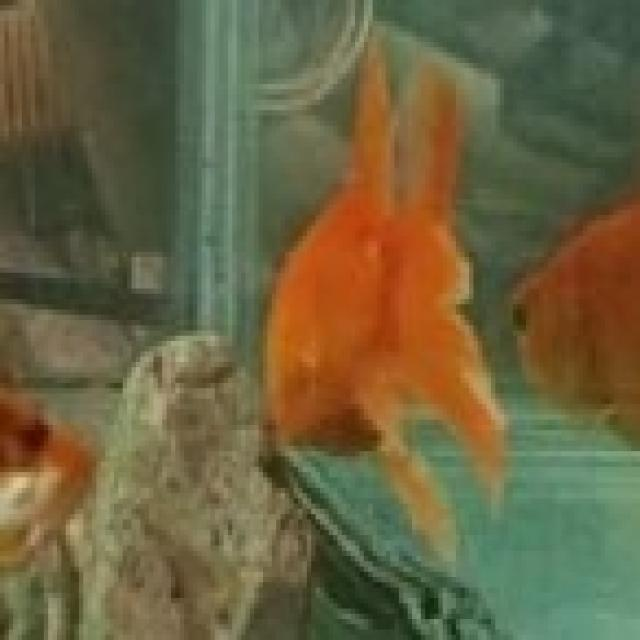Gold-Fish: (235, 73, 514, 540)
